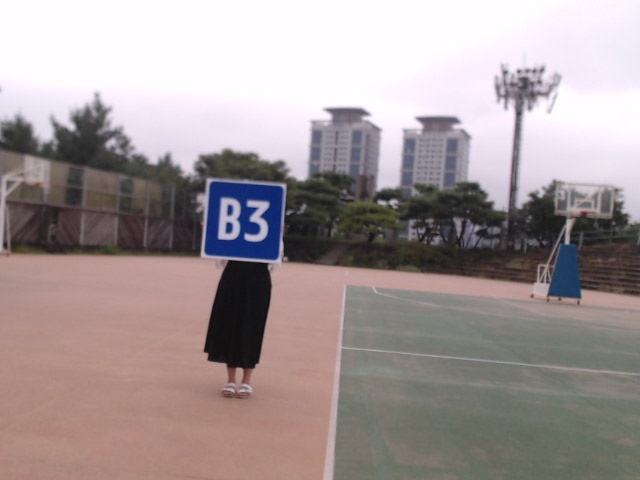delivery_b3: (205, 178, 283, 262)
